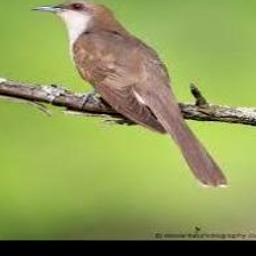Cuckoo: (30, 0, 227, 186)
